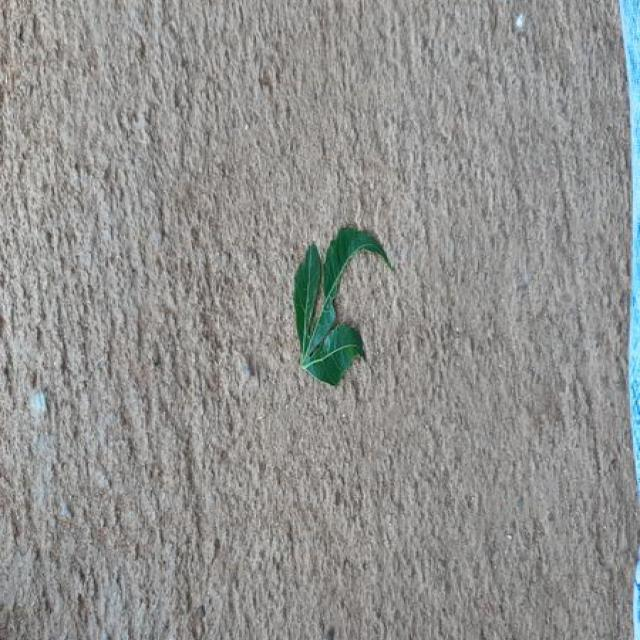neem: (293, 226, 392, 384)
